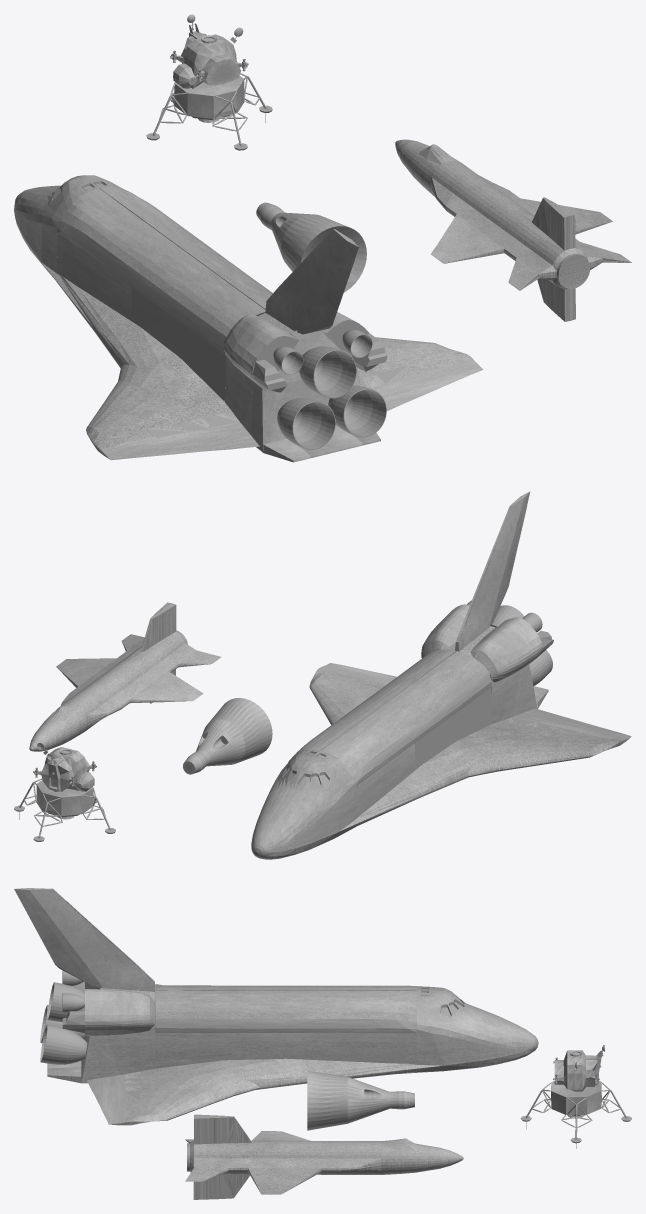
File: Spaceships.obj
3 views of the same model, one above another, from view 1: azimuth 30°, elevation 25°; view 2: azimuth 150°, elevation 25°; view 3: azimuth 270°, elevation 25° (orthographic). The views are drawn at different scales.
Parts seen in each view (by area): view 1: Shape_IndexedFaceSet.029_Shape_IndexedFaceSet.063, Shape_IndexedFaceSet.014_Shape_IndexedFaceSet.048, Shape_IndexedFaceSet.023_Shape_IndexedFaceSet.057, Shape_IndexedFaceSet.003_Shape_IndexedFaceSet.037, Shape_IndexedFaceSet.012_Shape_IndexedFaceSet.046, Shape_IndexedFaceSet.018_Shape_IndexedFaceSet.052, Shape_IndexedFaceSet.028_Shape_IndexedFaceSet.062, Shape_IndexedFaceSet.002_Shape_IndexedFaceSet.036, Shape_IndexedFaceSet.010_Shape_IndexedFaceSet.044, Shape_IndexedFaceSet.004_Shape_IndexedFaceSet.038, Shape_IndexedFaceSet_Shape_IndexedFaceSet.034, Shape_IndexedFaceSet.007_Shape_IndexedFaceSet.041 (+10 smaller); view 2: Shape_IndexedFaceSet.029_Shape_IndexedFaceSet.063, Shape_IndexedFaceSet.014_Shape_IndexedFaceSet.048, Shape_IndexedFaceSet.018_Shape_IndexedFaceSet.052, Shape_IndexedFaceSet.023_Shape_IndexedFaceSet.057, Shape_IndexedFaceSet.022_Shape_IndexedFaceSet.056, Shape_IndexedFaceSet.003_Shape_IndexedFaceSet.037, Shape_IndexedFaceSet.010_Shape_IndexedFaceSet.044, Shape_IndexedFaceSet.007_Shape_IndexedFaceSet.041, Shape_IndexedFaceSet.028_Shape_IndexedFaceSet.062, Shape_IndexedFaceSet.004_Shape_IndexedFaceSet.038, Shape_IndexedFaceSet.002_Shape_IndexedFaceSet.036, Shape_IndexedFaceSet.032_Shape_IndexedFaceSet.066 (+6 smaller); view 3: Shape_IndexedFaceSet.029_Shape_IndexedFaceSet.063, Shape_IndexedFaceSet.014_Shape_IndexedFaceSet.048, Shape_IndexedFaceSet.018_Shape_IndexedFaceSet.052, Shape_IndexedFaceSet.021_Shape_IndexedFaceSet.055, Shape_IndexedFaceSet.023_Shape_IndexedFaceSet.057, Shape_IndexedFaceSet.003_Shape_IndexedFaceSet.037, Shape_IndexedFaceSet.004_Shape_IndexedFaceSet.038, Shape_IndexedFaceSet.022_Shape_IndexedFaceSet.056, Shape_IndexedFaceSet.007_Shape_IndexedFaceSet.041, Shape_IndexedFaceSet.012_Shape_IndexedFaceSet.046, Shape_IndexedFaceSet.009_Shape_IndexedFaceSet.043, Shape_IndexedFaceSet.017_Shape_IndexedFaceSet.051 (+6 smaller).
Boxes of the visible parts, x1,y1,x2,y2 form: Shape_IndexedFaceSet.029_Shape_IndexedFaceSet.063: (395,139,631,321); Shape_IndexedFaceSet.014_Shape_IndexedFaceSet.048: (60,186,272,336); Shape_IndexedFaceSet.023_Shape_IndexedFaceSet.057: (29,190,369,449); Shape_IndexedFaceSet.003_Shape_IndexedFaceSet.037: (100,245,449,437); Shape_IndexedFaceSet.012_Shape_IndexedFaceSet.046: (273,329,386,449); Shape_IndexedFaceSet.018_Shape_IndexedFaceSet.052: (25,188,471,452); Shape_IndexedFaceSet.028_Shape_IndexedFaceSet.062: (99,359,483,460); Shape_IndexedFaceSet.002_Shape_IndexedFaceSet.036: (146,14,272,150); Shape_IndexedFaceSet.010_Shape_IndexedFaceSet.044: (223,315,387,392); Shape_IndexedFaceSet.004_Shape_IndexedFaceSet.038: (57,220,226,355); Shape_IndexedFaceSet_Shape_IndexedFaceSet.034: (153,73,265,144); Shape_IndexedFaceSet.007_Shape_IndexedFaceSet.041: (257,228,358,334); Shape_IndexedFaceSet.029_Shape_IndexedFaceSet.063: (29,602,221,751); Shape_IndexedFaceSet.014_Shape_IndexedFaceSet.048: (289,649,489,776); Shape_IndexedFaceSet.018_Shape_IndexedFaceSet.052: (259,667,622,835); Shape_IndexedFaceSet.023_Shape_IndexedFaceSet.057: (276,664,533,831); Shape_IndexedFaceSet.022_Shape_IndexedFaceSet.056: (251,750,352,849); Shape_IndexedFaceSet.003_Shape_IndexedFaceSet.037: (321,506,603,763); Shape_IndexedFaceSet.010_Shape_IndexedFaceSet.044: (470,617,553,681); Shape_IndexedFaceSet.007_Shape_IndexedFaceSet.041: (441,491,530,657); Shape_IndexedFaceSet.028_Shape_IndexedFaceSet.062: (322,663,631,744); Shape_IndexedFaceSet.004_Shape_IndexedFaceSet.038: (288,672,491,786); Shape_IndexedFaceSet.002_Shape_IndexedFaceSet.036: (14,743,115,841); Shape_IndexedFaceSet.032_Shape_IndexedFaceSet.066: (209,698,272,763); Shape_IndexedFaceSet.029_Shape_IndexedFaceSet.063: (185,1114,460,1199); Shape_IndexedFaceSet.014_Shape_IndexedFaceSet.048: (155,985,416,1022); Shape_IndexedFaceSet.018_Shape_IndexedFaceSet.052: (125,984,525,1125); Shape_IndexedFaceSet.021_Shape_IndexedFaceSet.055: (81,1024,497,1083); Shape_IndexedFaceSet.023_Shape_IndexedFaceSet.057: (141,1001,511,1071); Shape_IndexedFaceSet.003_Shape_IndexedFaceSet.037: (20,901,285,1115); Shape_IndexedFaceSet.004_Shape_IndexedFaceSet.038: (155,990,416,1033); Shape_IndexedFaceSet.022_Shape_IndexedFaceSet.056: (417,986,533,1047); Shape_IndexedFaceSet.007_Shape_IndexedFaceSet.041: (14,888,154,1000); Shape_IndexedFaceSet.012_Shape_IndexedFaceSet.046: (40,970,87,1064); Shape_IndexedFaceSet.009_Shape_IndexedFaceSet.043: (85,989,154,1035); Shape_IndexedFaceSet.017_Shape_IndexedFaceSet.051: (66,1015,535,1125).
Bounding box in the file's own units: 5.93 × 2.25 × 6.81.
